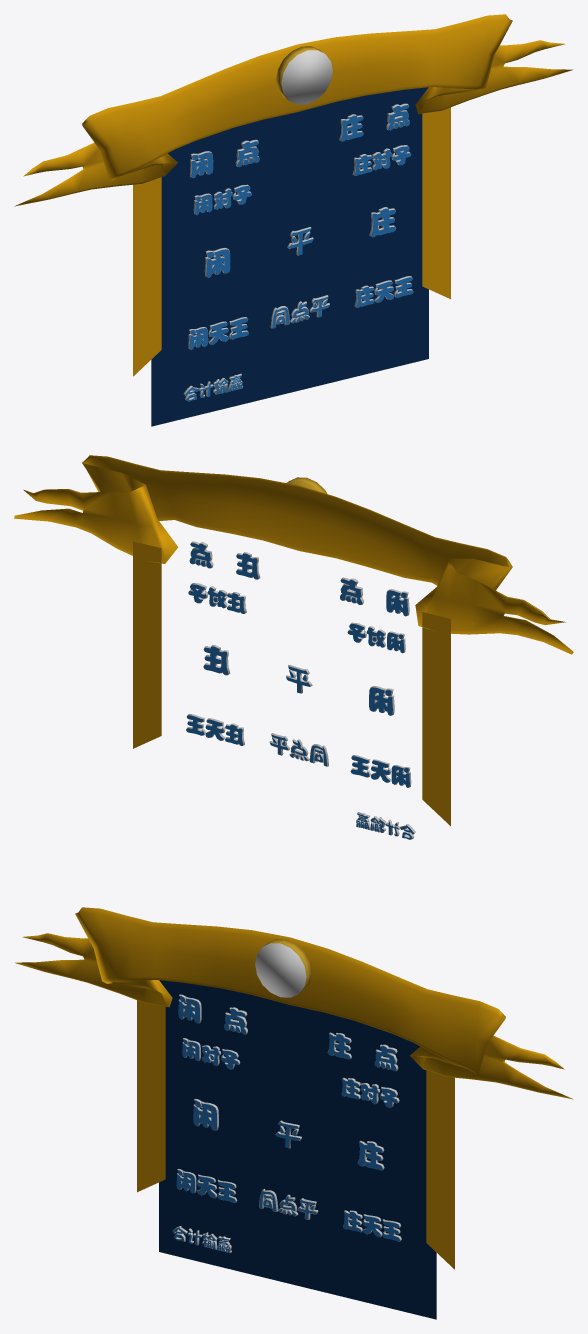
File: mianban 2.fbx
The picture shows the model from 3 angles, top to bottom: view 1: azimuth 30°, elevation 25°; view 2: azimuth 150°, elevation 25°; view 3: azimuth 330°, elevation 25°; orthographic projection.
Parts seen in each view (by area): view 1: Plane, BezierCurve.002, BezierCurve.000, BezierCurve.003, Text.003_Mesh.000, Text.002_Mesh.000, Text.013_Mesh.001, Text.012_Mesh.000, Text.006, Text.002, Text.000_Mesh.002; view 2: BezierCurve.002, BezierCurve.000, Text.003_Mesh.000, Text.002_Mesh.000, Text.012_Mesh.000, Text.013_Mesh.001, Text.006, Text.002; view 3: Plane, BezierCurve.002, BezierCurve.000, BezierCurve.003, Text.003_Mesh.000, Text.002_Mesh.000, Text.013_Mesh.001, Text.012_Mesh.000, Text.006, Text.002.
Boxes of the visible parts, x1,y1,x2,y2 form: Plane: (151,87,428,426); BezierCurve.002: (14,14,572,206); BezierCurve.000: (133,107,450,376); BezierCurve.003: (281,50,332,104); Text.003_Mesh.000: (189,318,248,349); Text.002_Mesh.000: (356,277,413,307); Text.013_Mesh.001: (195,186,251,214); Text.012_Mesh.000: (354,146,410,175); Text.006: (270,295,329,328); Text.002: (272,297,329,328); Text.000_Mesh.002: (206,249,230,277); BezierCurve.002: (14,455,573,654); BezierCurve.000: (133,541,450,825); Text.003_Mesh.000: (350,756,409,787); Text.002_Mesh.000: (186,715,243,745); Text.012_Mesh.000: (188,584,244,613); Text.013_Mesh.001: (347,624,403,652); Text.006: (269,733,328,766); Text.002: (270,735,326,766); Plane: (159,980,436,1319); BezierCurve.002: (15,907,573,1099); BezierCurve.000: (137,1000,454,1269); BezierCurve.003: (255,943,306,997); Text.003_Mesh.000: (176,1170,235,1202); Text.002_Mesh.000: (343,1211,399,1241); Text.013_Mesh.001: (182,1039,238,1069); Text.012_Mesh.000: (341,1079,397,1107); Text.006: (259,1189,318,1219); Text.002: (259,1190,316,1219).
Bounding box in the file's own units: 1429 × 866 × 74.83.
